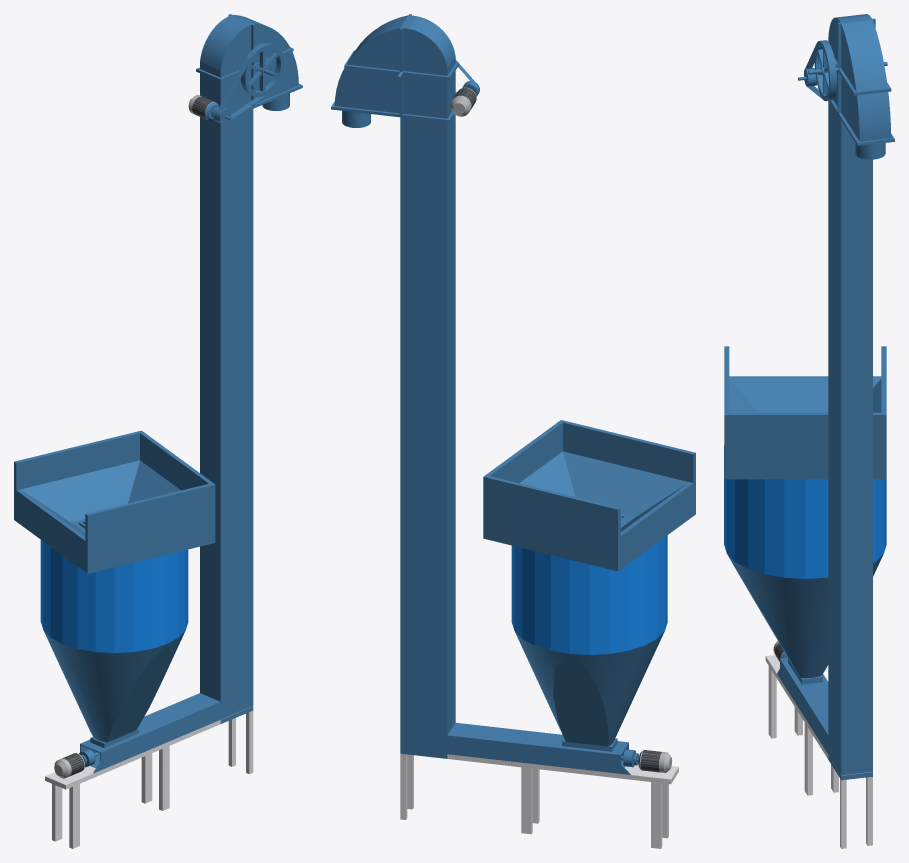
The picture shows the model from 3 angles, left to right: view 1: azimuth 30°, elevation 25°; view 2: azimuth 150°, elevation 25°; view 3: azimuth 270°, elevation 25°; orthographic projection. The views are drawn at different scales.
Visible parts, largest first — view 1: root; view 2: root; view 3: root.
Boxes of the visible parts, x1,y1,x2,y2 form: root: (14, 14, 302, 848); root: (331, 14, 695, 848); root: (724, 14, 894, 848).
Bounding box in the file's own units: 3.58 × 8.98 × 1.68.
5 materials, 3 textured.
